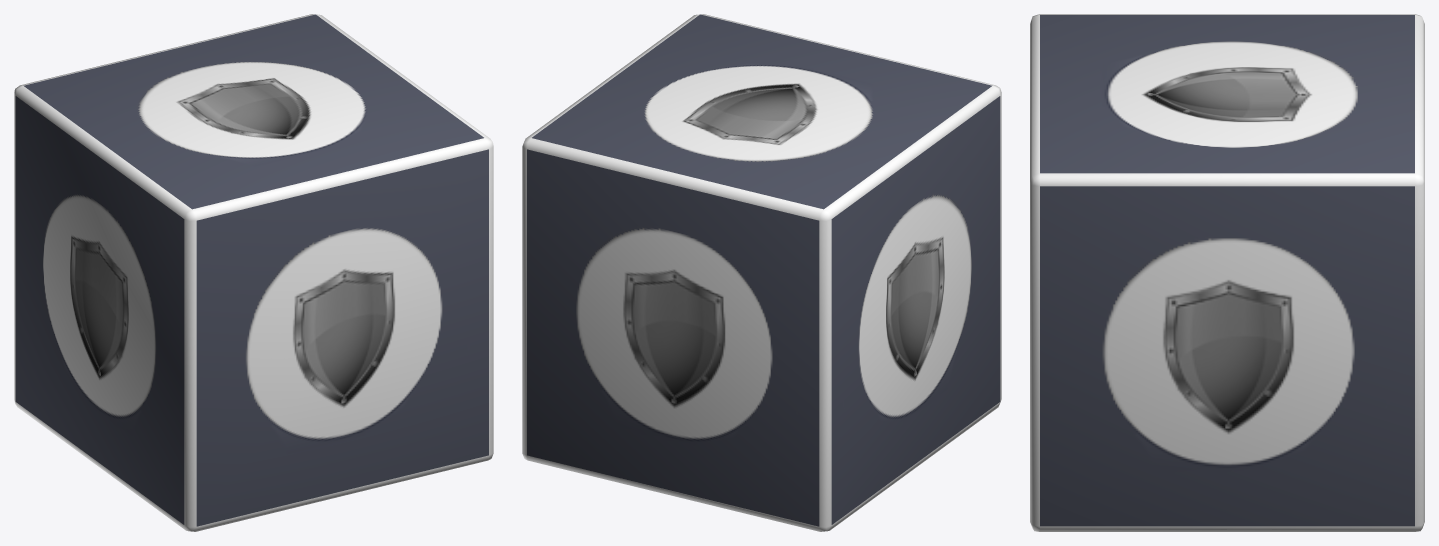
Rendered from Defense.FBX.
3 views of the same model, side by side, from view 1: azimuth 30°, elevation 25°; view 2: azimuth 150°, elevation 25°; view 3: azimuth 270°, elevation 25° (orthographic). The views are drawn at different scales.
Parts seen in each view (by area): view 1: Defense; view 2: Defense; view 3: Defense.
Boxes of the visible parts, x1,y1,x2,y2 form: Defense: (14, 14, 493, 531); Defense: (522, 14, 1001, 531); Defense: (1030, 14, 1424, 531).
Bounding box in the file's own units: 20 × 20 × 20.
